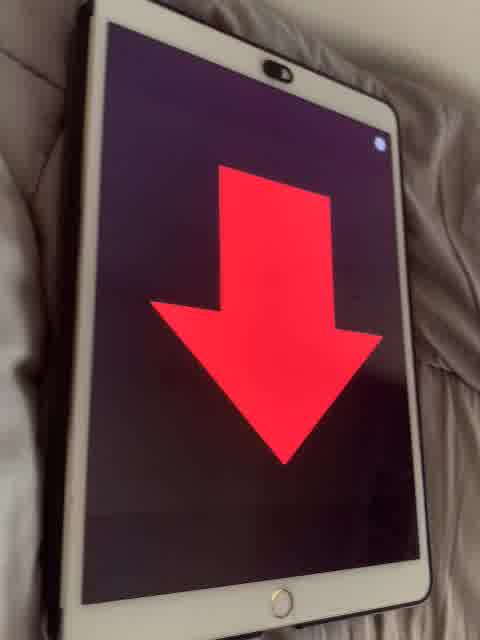down: (149, 158, 384, 470)
